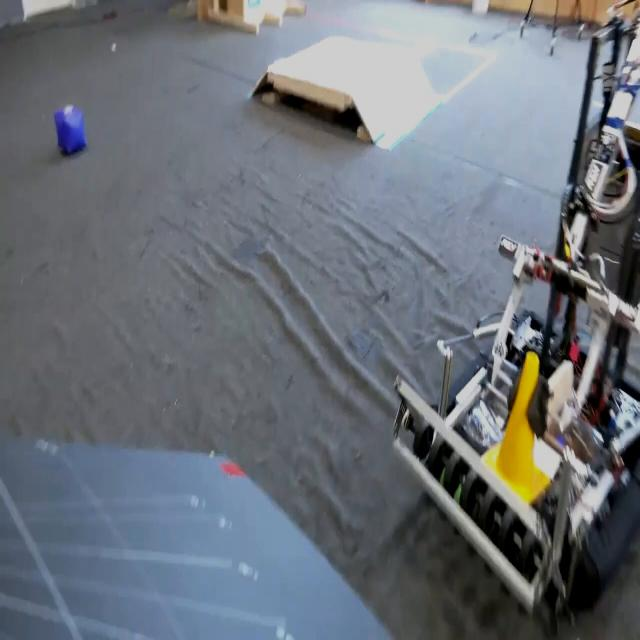frc_cone: (481, 352, 554, 501)
frc_cube: (55, 101, 87, 162)
